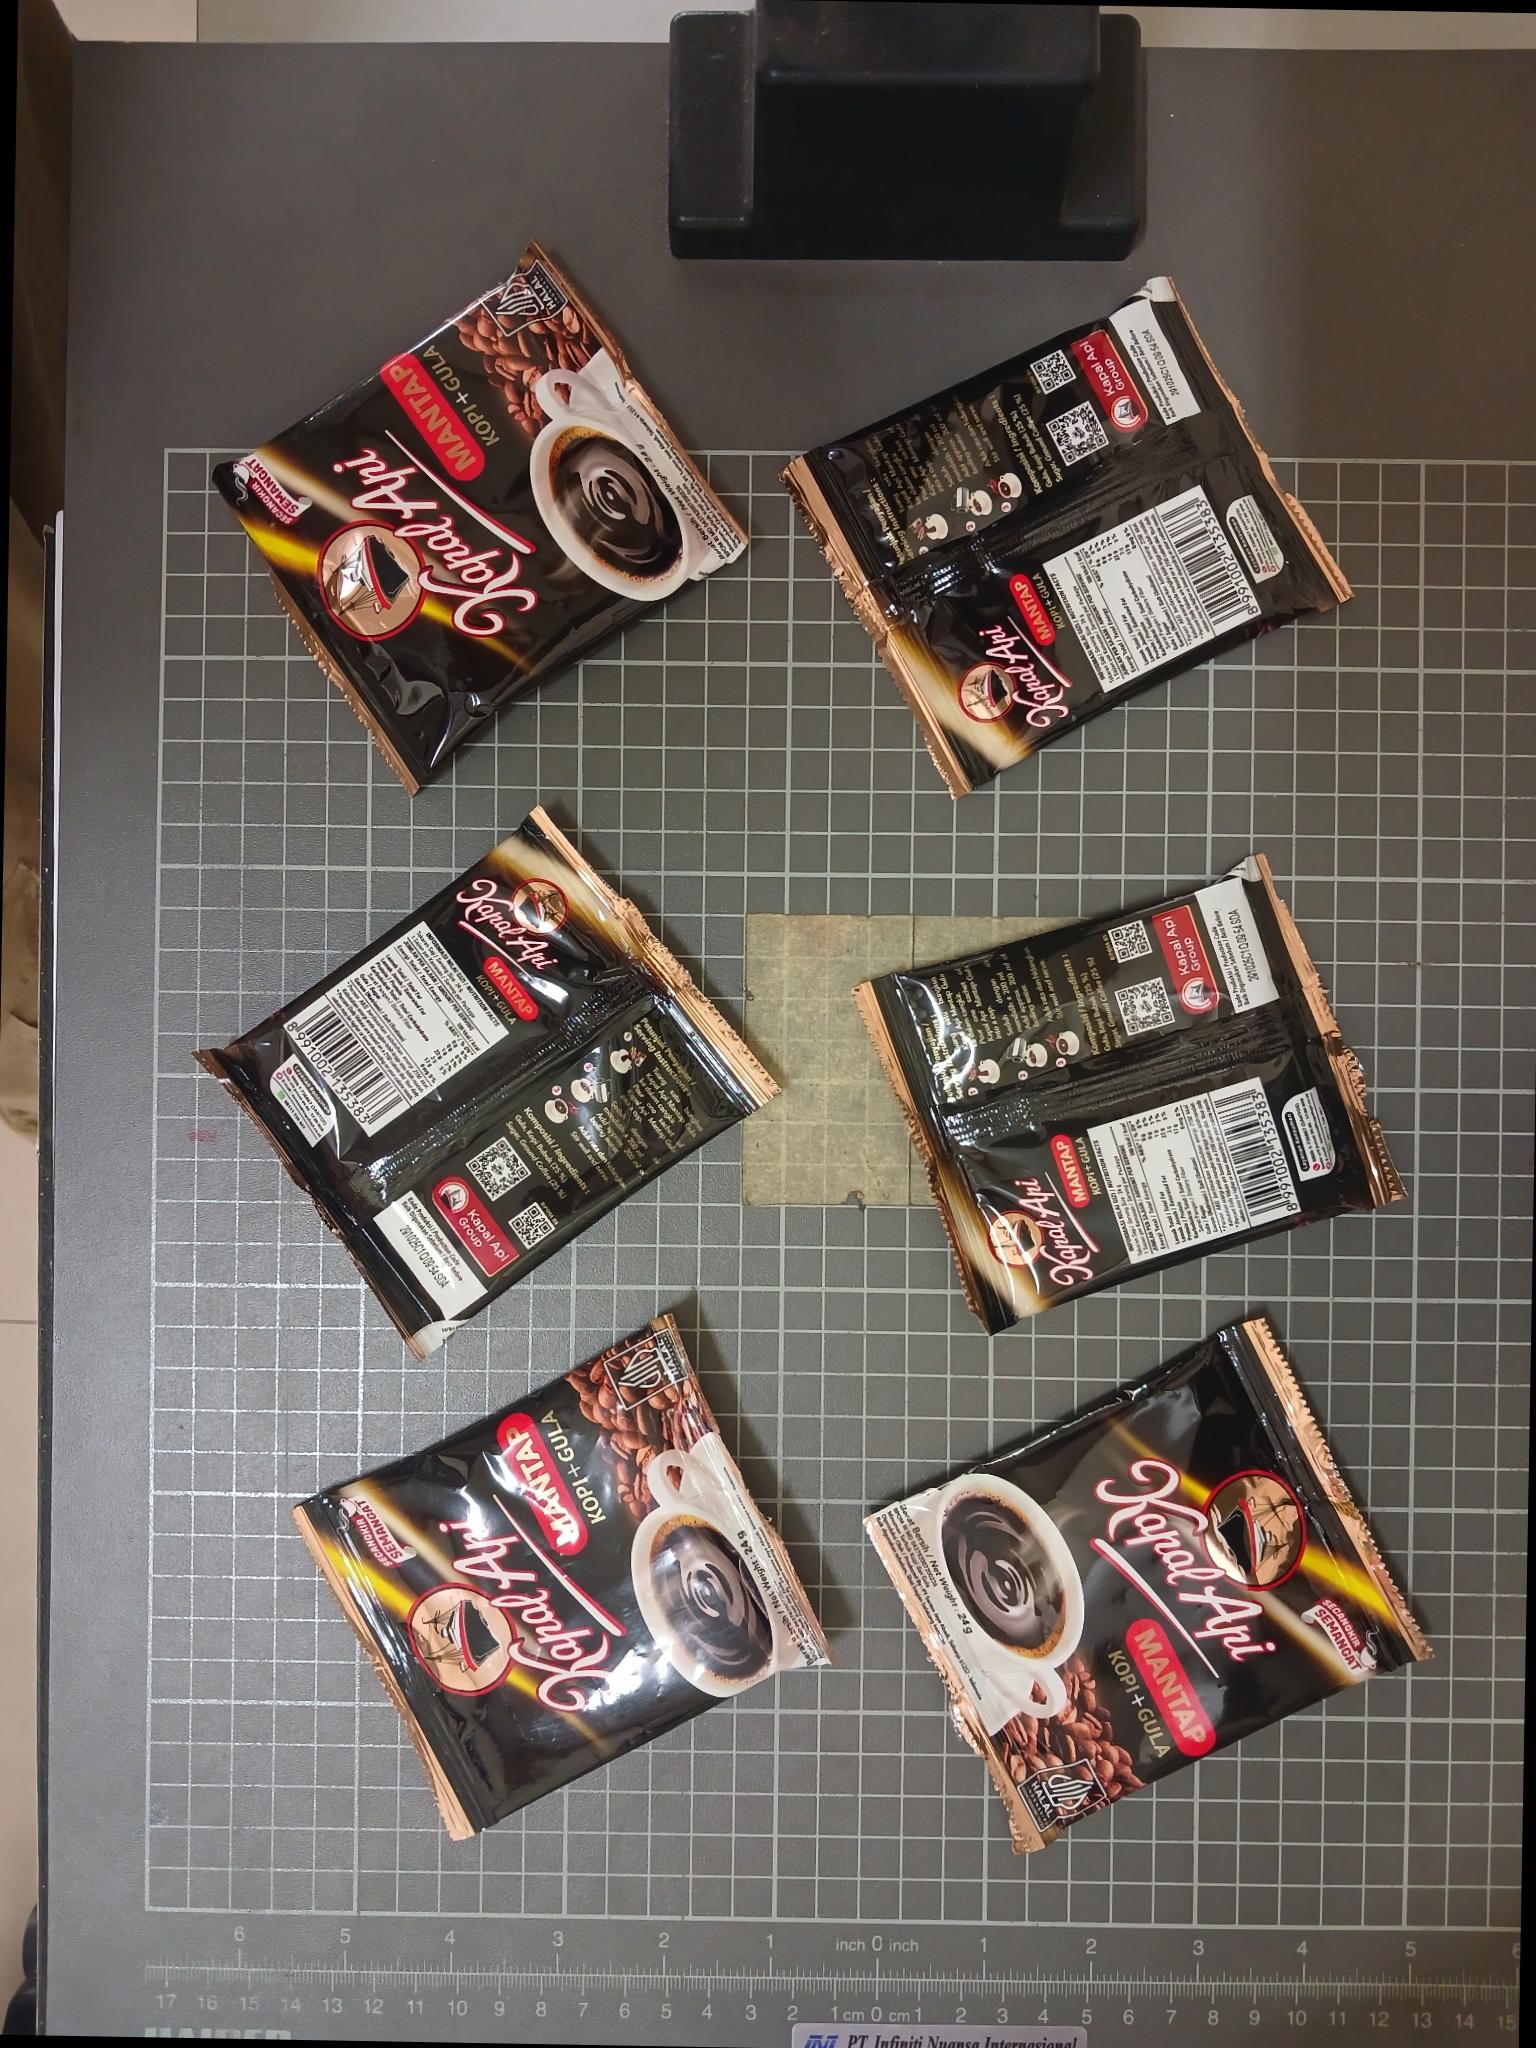back: (194, 803, 784, 1364), (771, 268, 1354, 806), (849, 851, 1405, 1338)
front: (855, 1309, 1436, 1858), (202, 235, 758, 801), (287, 1311, 836, 1845)
